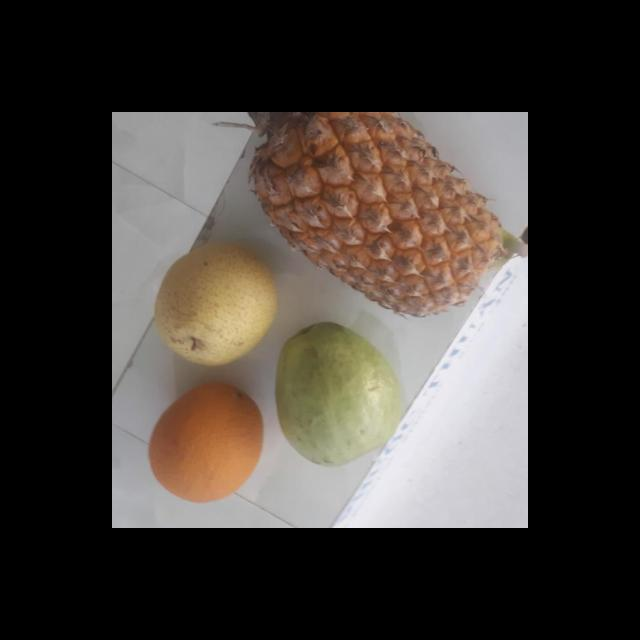guava: (277, 324, 406, 466)
orange: (146, 384, 269, 504)
pear: (152, 245, 282, 366)
pineapple: (254, 112, 502, 318)
